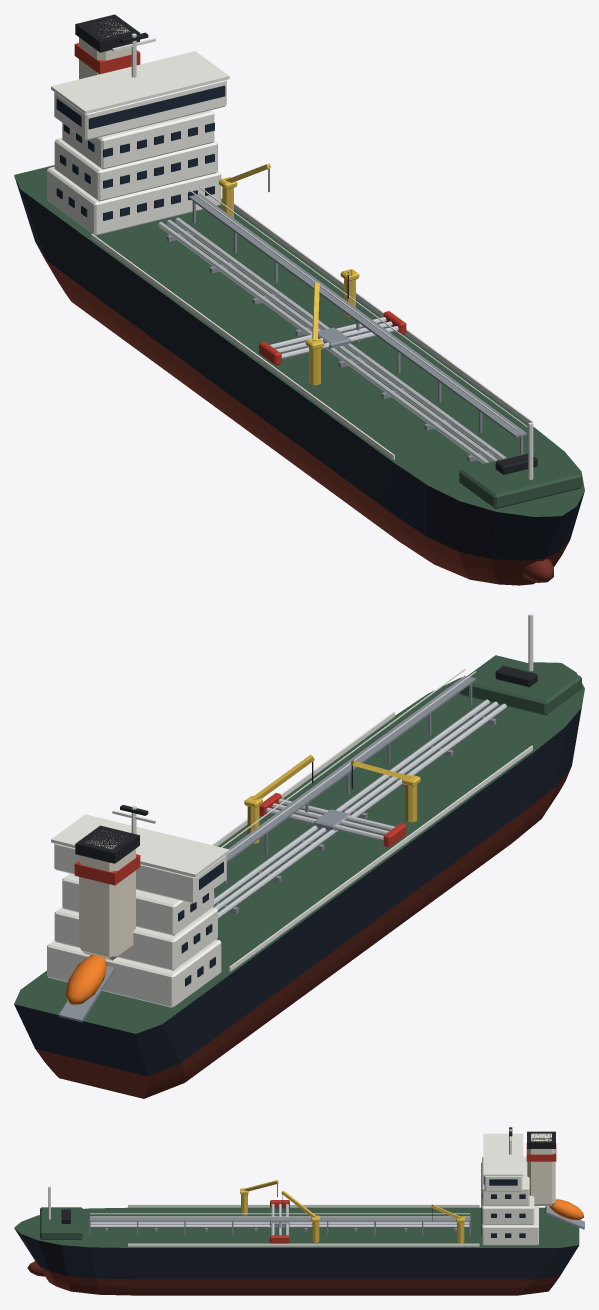
Rendered from tanker_oil.glb.
3 views of the same model, one above another, from view 1: azimuth 30°, elevation 25°; view 2: azimuth 150°, elevation 25°; view 3: azimuth 270°, elevation 25° (orthographic). The views are drawn at different scales.
Visible parts, largest first — view 1: hull; view 2: hull; view 3: hull.
Boxes of the visible parts, x1,y1,x2,y2 form: hull: (14,14,584,585); hull: (14,614,584,1098); hull: (14,1127,584,1295).
Size of the model in its own units: 2.04 by 3.48 by 12.02.
